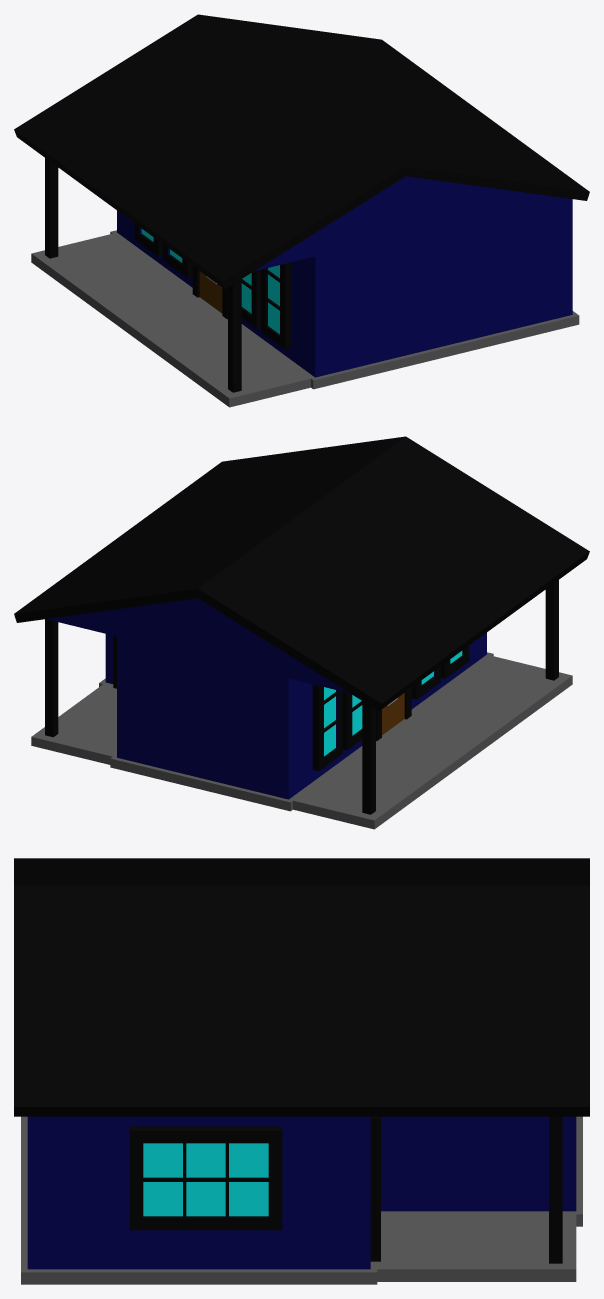
Rendered from house_005_connected.fbx.
The picture shows the model from 3 angles, top to bottom: view 1: azimuth 30°, elevation 25°; view 2: azimuth 150°, elevation 25°; view 3: azimuth 270°, elevation 25°; orthographic projection. The views are drawn at different scales.
Visible parts, largest first — view 1: Cube; view 2: Cube; view 3: Cube.
Boxes of the visible parts, box(x1,y1,x2,y2) form: Cube: box(14, 14, 589, 407); Cube: box(14, 436, 589, 829); Cube: box(14, 858, 589, 1284).
Bounding box in the file's own units: 858 × 451 × 840.
